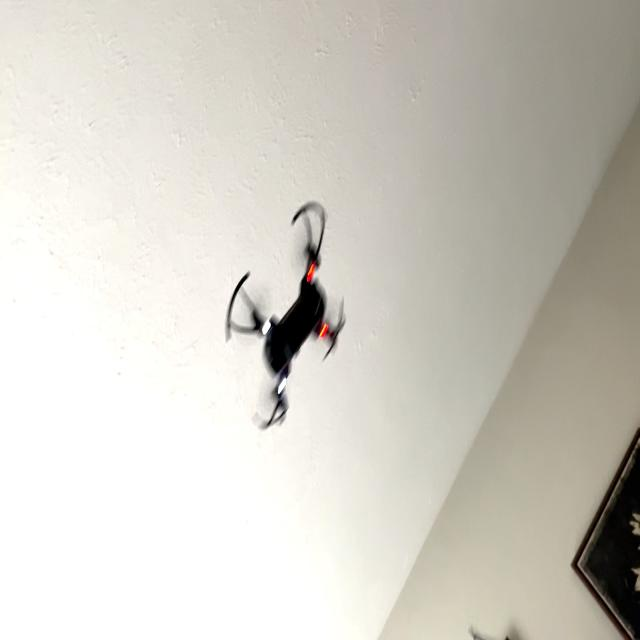drone: (214, 190, 364, 441)
